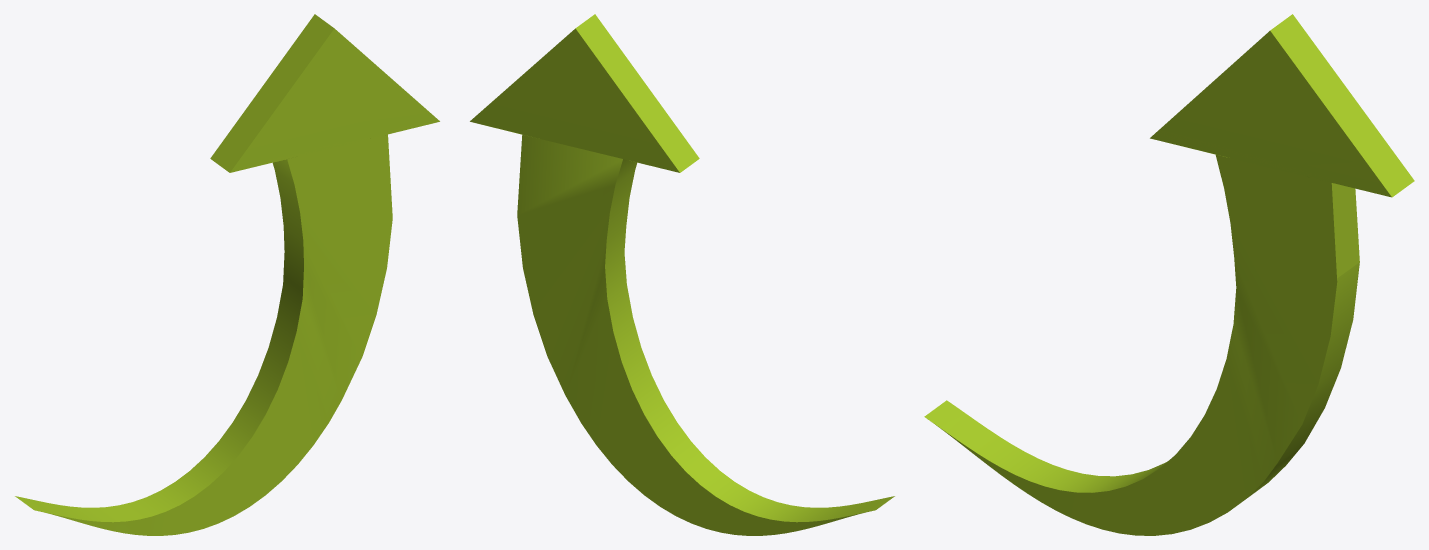
Rendered from 掰动标记1.gltf.
The picture shows the model from 3 angles, left to right: view 1: azimuth 30°, elevation 25°; view 2: azimuth 150°, elevation 25°; view 3: azimuth 330°, elevation 25°; orthographic projection. The views are drawn at different scales.
Parts seen in each view (by area): view 1: 掰箭头.001; view 2: 掰箭头.001; view 3: 掰箭头.001.
Boxes of the visible parts, x1=… form: 掰箭头.001: x1=15, y1=14, x2=439, y2=535; 掰箭头.001: x1=470, y1=14, x2=894, y2=535; 掰箭头.001: x1=924, y1=14, x2=1414, y2=535.
Bounding box in the file's own units: 119 × 132 × 10.4.
